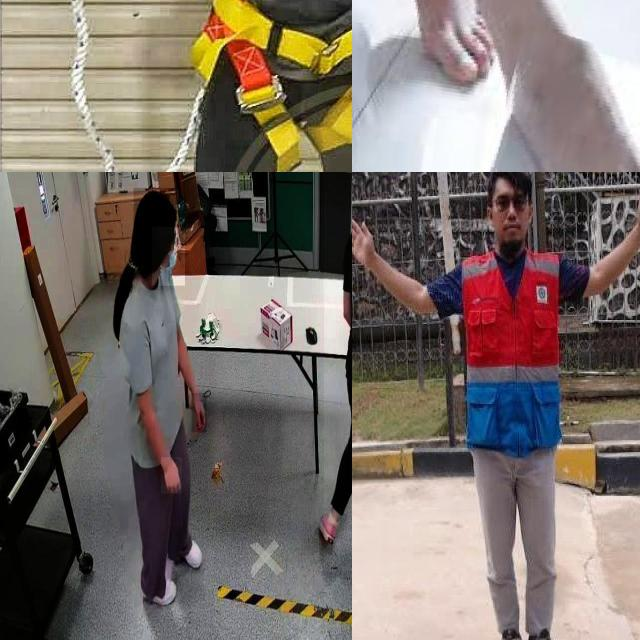Barefoots: (502, 45, 640, 172)
Harness: (214, 0, 352, 152)
boots: (493, 627, 525, 640)
face_mask: (152, 227, 185, 286)
hand_noglove: (161, 457, 183, 495), (191, 393, 207, 433)
head_nohelmet: (134, 188, 178, 226)
person: (116, 186, 216, 608), (324, 172, 352, 571)
shoes: (140, 568, 180, 610), (174, 522, 206, 574), (317, 506, 342, 544)
vest: (460, 247, 565, 453)
